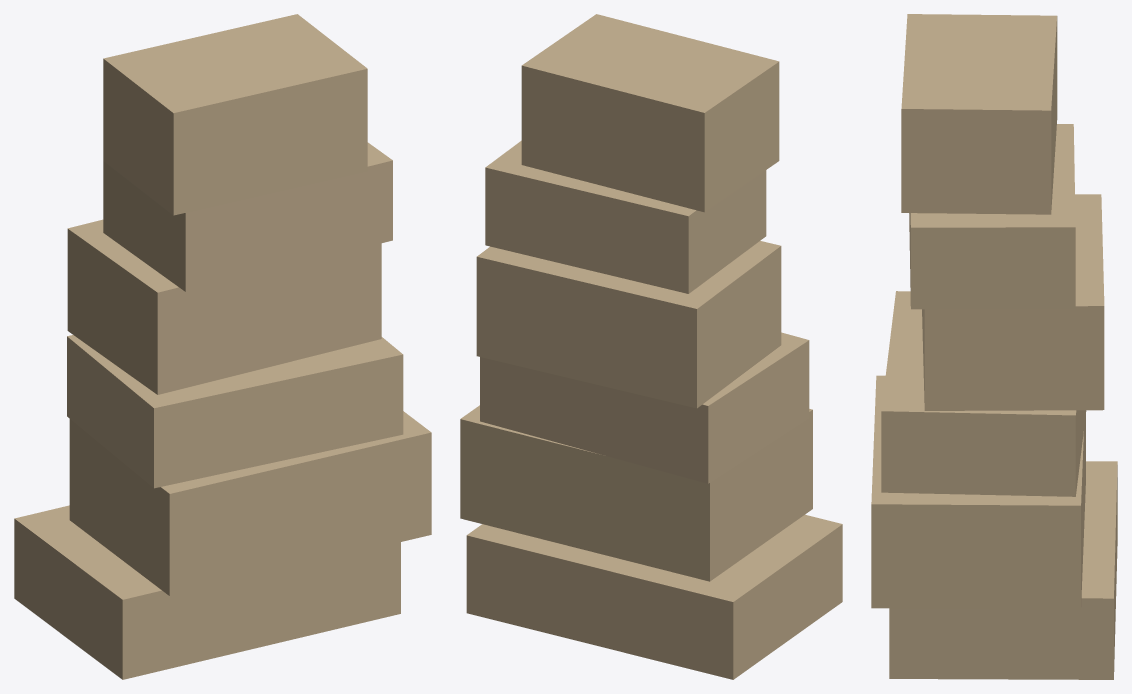
File: cardboard_stack_03.glb
3 renders of one model, left to right at view 1: azimuth 30°, elevation 25°; view 2: azimuth 150°, elevation 25°; view 3: azimuth 270°, elevation 25°, orthographic. The views are drawn at different scales.
Visible parts, largest first — view 1: box5, box1, box0, box3, box2, box4; view 2: box5, box0, box1, box3, box2, box4; view 3: box5, box1, box3, box0, box2, box4.
Part boxes in pixels (x1=…): box5: x1=103, y1=14, x2=367, y2=215; box1: x1=69, y1=411, x2=431, y2=596; box0: x1=14, y1=505, x2=400, y2=679; box3: x1=67, y1=219, x2=381, y2=394; box2: x1=67, y1=335, x2=403, y2=488; box4: x1=103, y1=142, x2=392, y2=291; box5: x1=521, y1=14, x2=779, y2=212; box0: x1=466, y1=514, x2=842, y2=679; box1: x1=460, y1=405, x2=812, y2=581; box3: x1=476, y1=241, x2=781, y2=408; box2: x1=480, y1=332, x2=809, y2=483; box4: x1=485, y1=140, x2=766, y2=293; box5: x1=901, y1=14, x2=1057, y2=214; box1: x1=871, y1=375, x2=1085, y2=609; box3: x1=922, y1=194, x2=1104, y2=410; box0: x1=889, y1=461, x2=1117, y2=679; box2: x1=881, y1=291, x2=1086, y2=496; box4: x1=909, y1=124, x2=1075, y2=309.
Bounding box in the file's own units: 0.7083 × 1.23 × 0.4931.
